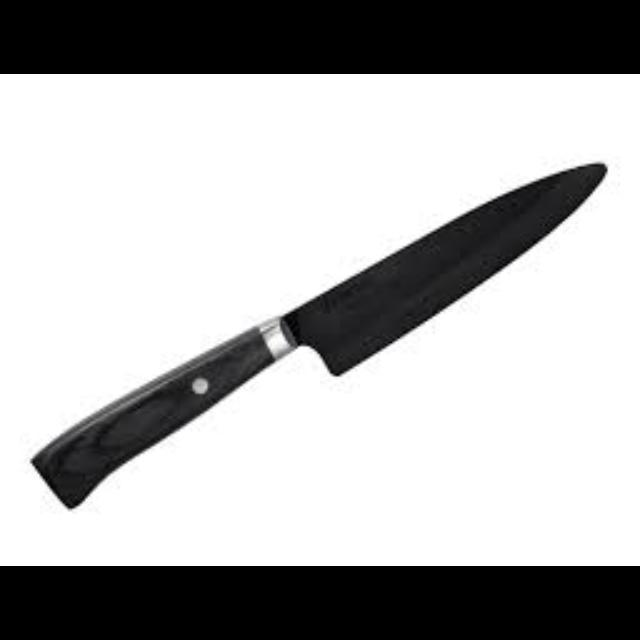Knife: (28, 159, 608, 509)
